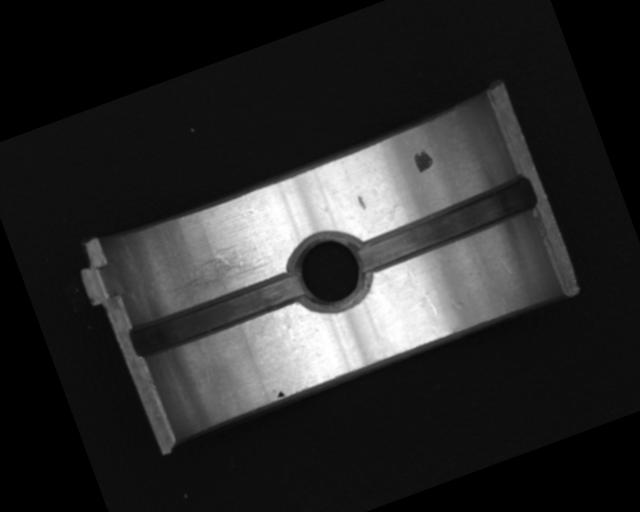blot: (410, 147, 435, 174), (271, 386, 285, 401)
bruise: (356, 193, 368, 210)
gap: (348, 171, 540, 275), (128, 271, 306, 360)
hole: (280, 224, 376, 323)
nick: (405, 258, 439, 318)
scratch: (155, 239, 275, 307)
